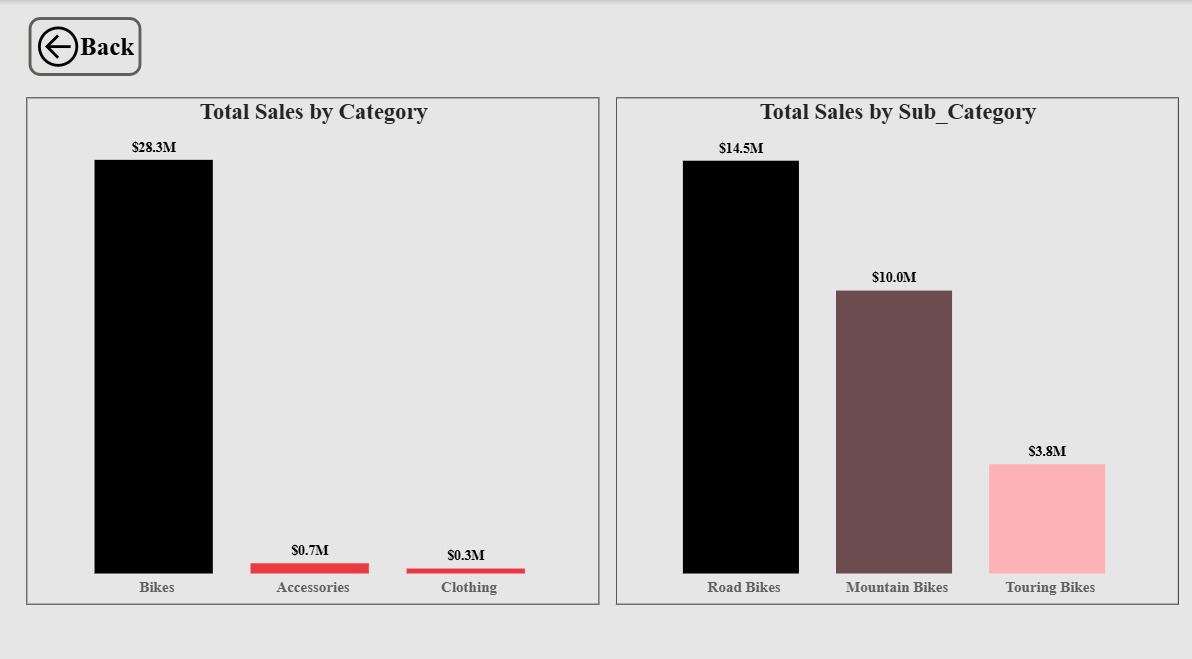

The page's visual inventory and layout, read from the dashboard file:
{"tool":"powerbi","page":{"name":"Cover_Page2","canvas":[1280,720],"ordinal":1},"visuals":[{"type":"columnChart","title":"Total Sales by Category","fields":{"Category":["Category.CategoryName"],"Y":["Sum(Sales Data.SalesAmount)"]},"box":[30.4,103.8,610.3,540],"z":0},{"type":"columnChart","title":"Total Sales by Sub_Category","fields":{"Category":["SubCategory.SubcategoryName"],"Y":["Sum(Sales Data.SalesAmount)"]},"box":[658.2,103.8,599.1,540],"z":1000},{"type":"actionButton","box":[30.4,16,124.6,67.1],"z":2000}]}

Visuals, with their boxes in screenshot pixels (x1, y1, x2, y2), scaled from the page's 1280x720 canvas onto the 1192x659 screenshot:
"Total Sales by Category" columnChart: [28,95,597,589]
"Total Sales by Sub_Category" columnChart: [613,95,1171,589]
actionButton: [28,15,144,76]
